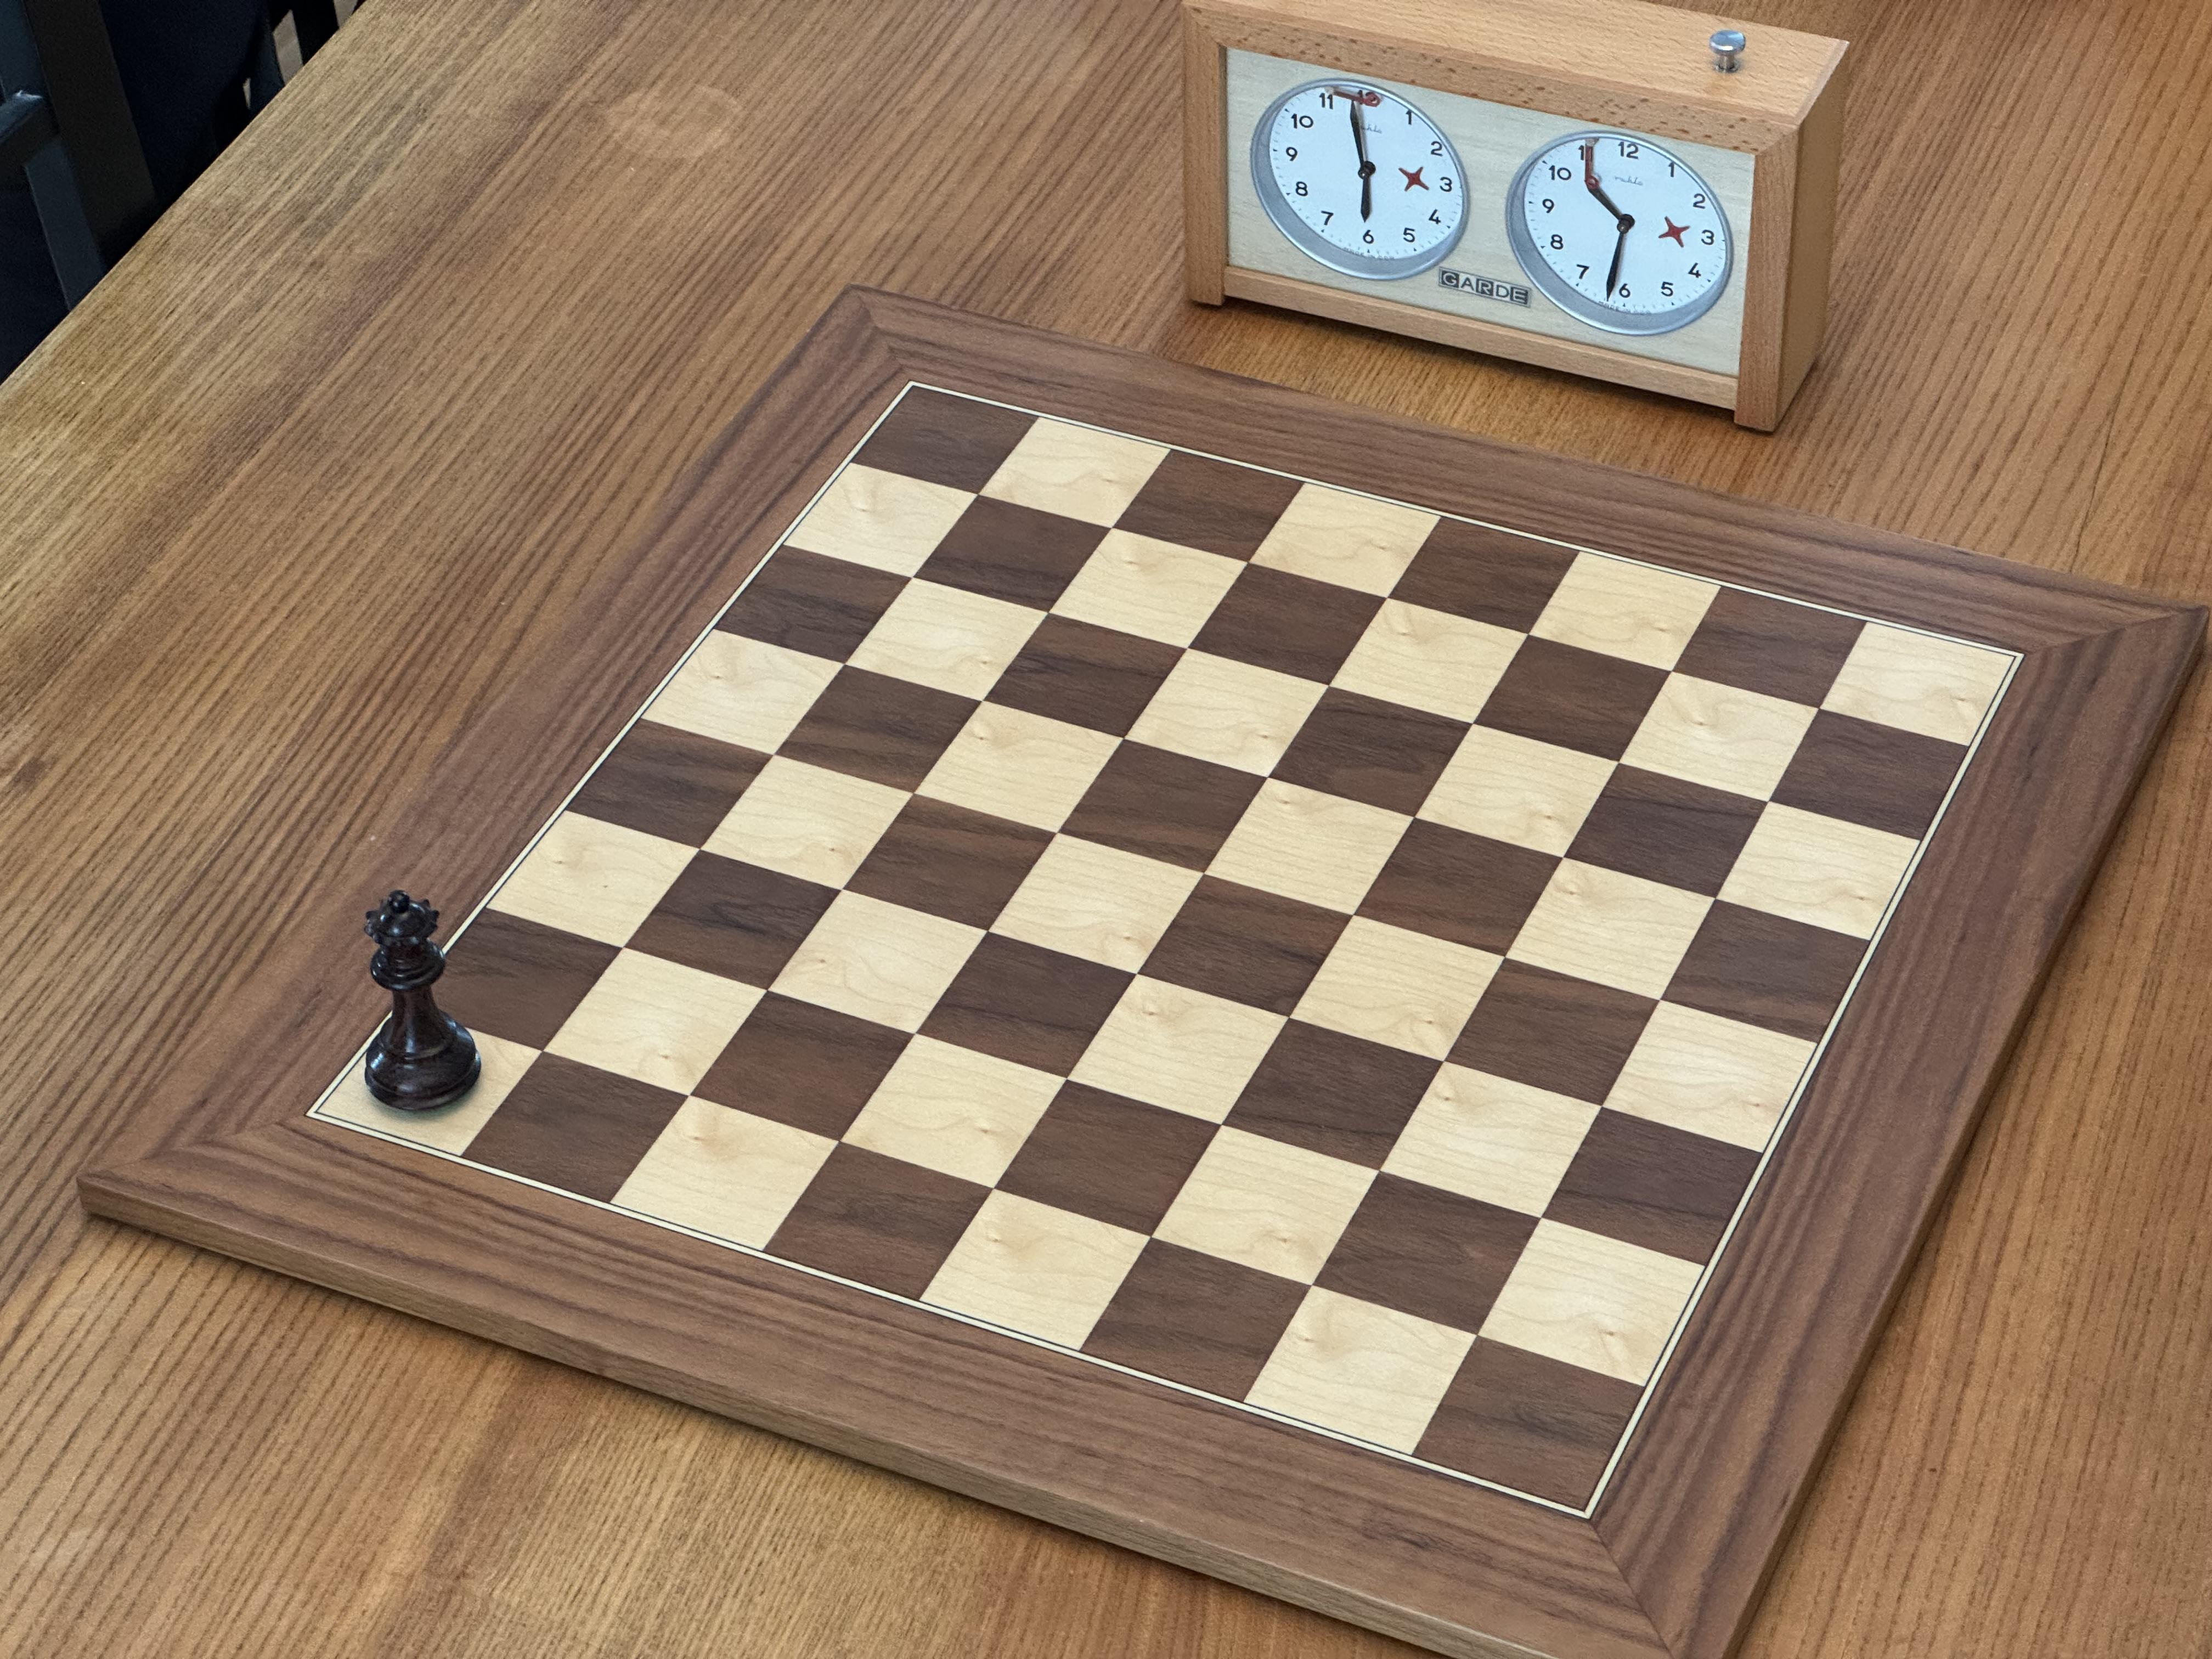corner A: (227, 1030, 396, 1197)
corner B: (1500, 1426, 1688, 1612)
corner C: (1933, 577, 2097, 747)
